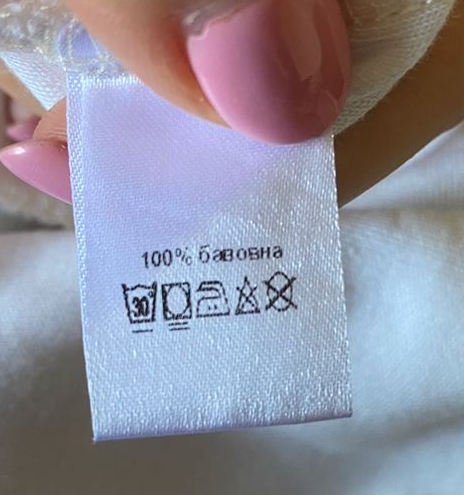do_not_bleach: (234, 272, 262, 316)
do_not_dry_clean: (261, 268, 299, 316)
ironing_at_med_temp: (193, 275, 232, 321)
tumble_drying_normal: (160, 279, 195, 333)
wash_at_or_below_30_mild_fine_wash: (118, 277, 161, 335)
